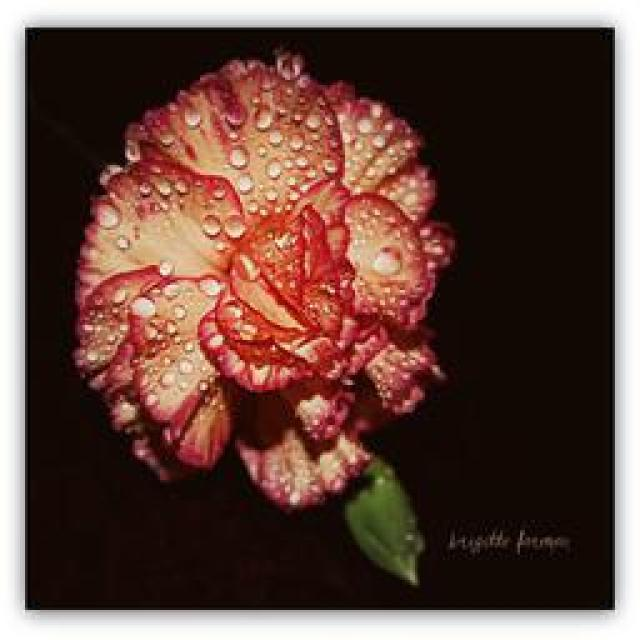carnation: (71, 52, 469, 516)
